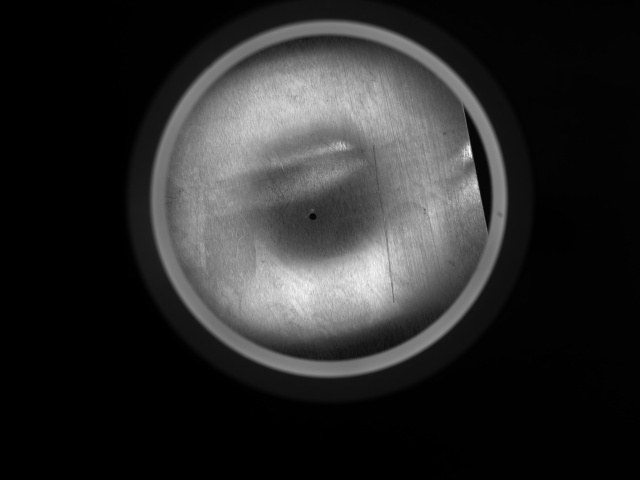ca_shang: (367, 143, 397, 304)
zhen_kong: (305, 208, 321, 224)
